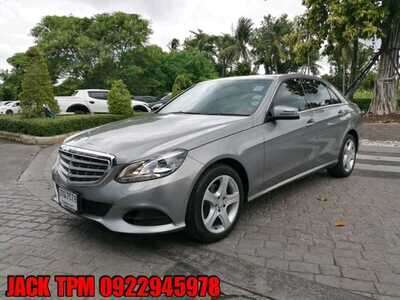sedan: (48, 74, 361, 243)
